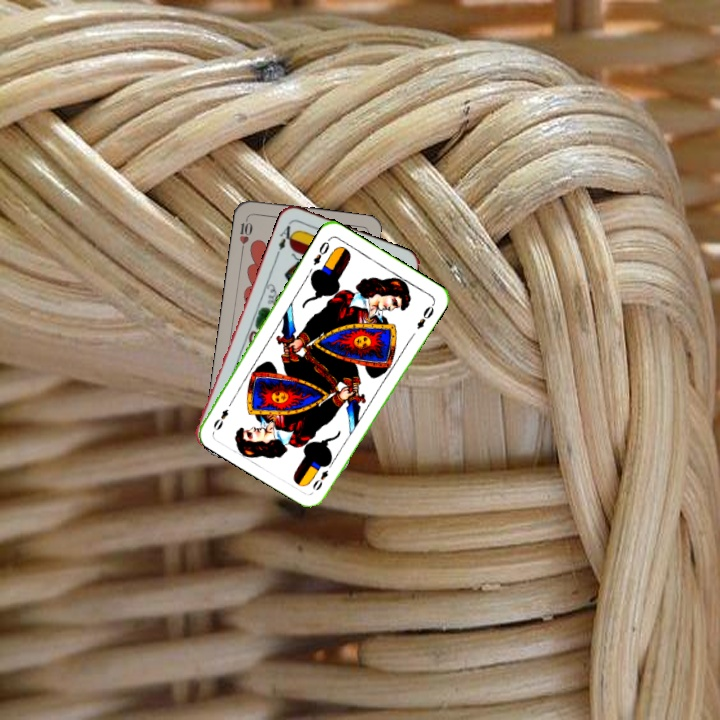EA: (273, 218, 298, 257)
EO: (308, 457, 336, 493), (309, 234, 333, 268)
H10: (235, 213, 255, 254)
